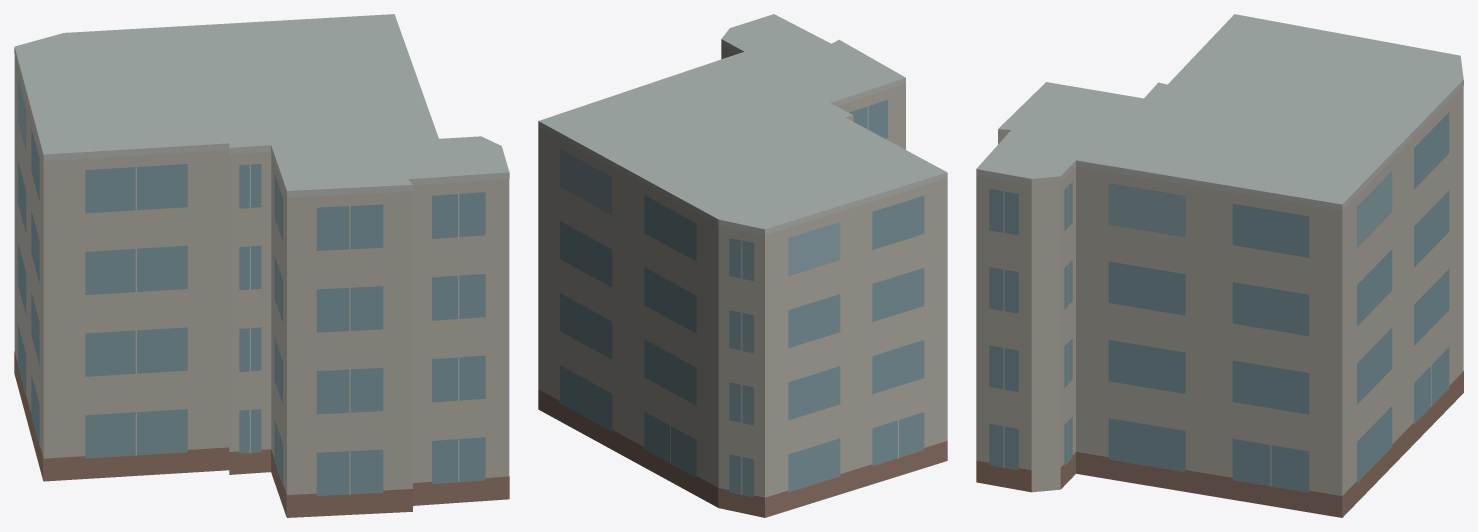
The model's file is survey-upis-32508356.glb.
3 renders of one model, left to right at view 1: azimuth 30°, elevation 25°; view 2: azimuth 150°, elevation 25°; view 3: azimuth 270°, elevation 25°, orthographic. The views are drawn at different scales.
Parts seen in each view (by area): view 1: survey-upis-32508356.tmp; view 2: survey-upis-32508356.tmp; view 3: survey-upis-32508356.tmp.
Part boxes in pixels (x1,y1,x2,y2): survey-upis-32508356.tmp: (14,14,509,517); survey-upis-32508356.tmp: (538,14,947,517); survey-upis-32508356.tmp: (976,14,1463,517).
Size of the model in its own units: 15.92 by 12.2 by 17.21.
